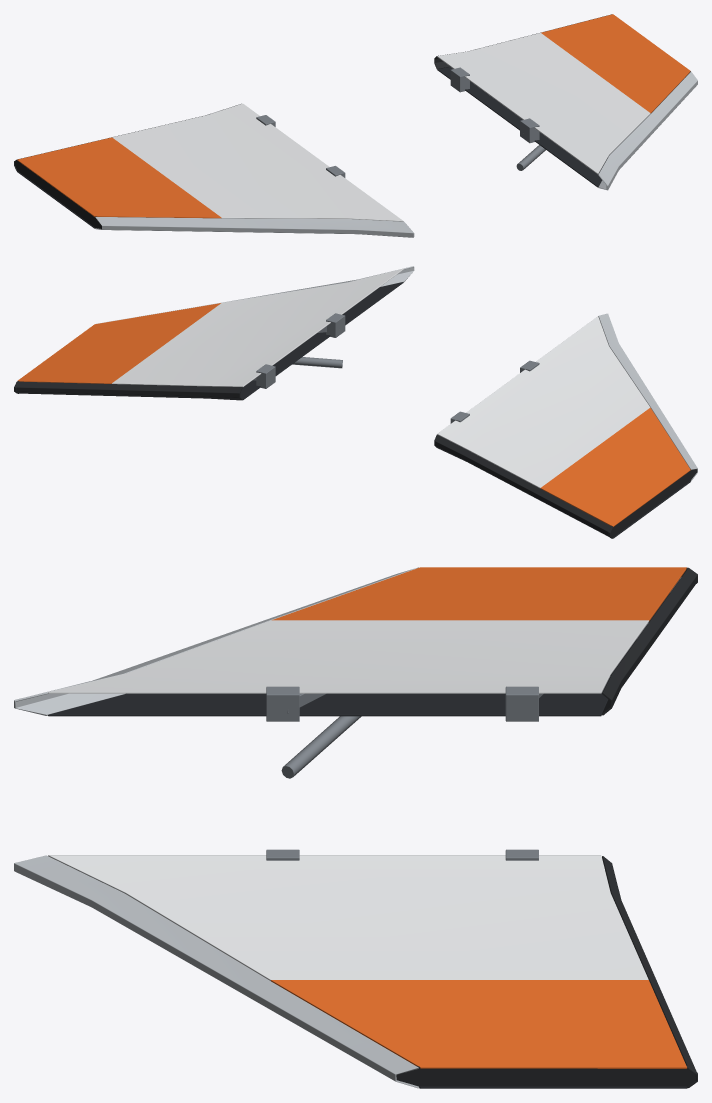
The model's file is nomad_wing_brace.fbx.
3 renders of one model, top to bottom at view 1: azimuth 30°, elevation 25°; view 2: azimuth 150°, elevation 25°; view 3: azimuth 270°, elevation 25°, orthographic. The views are drawn at different scales.
Visible parts, largest first — view 1: Wing_Top_L, Wing_Top_R, Wing_LE_L, Wing_LE_R, Wing_Bottom_R, Wing_Tip_L, Wing_Structure_R; view 2: Wing_Top_L, Wing_Top_R, Wing_TE_R, Wing_TE_L, Wing_LE_L, Wing_Bottom_R, Wing_Tip_L, Wing_Structure_R, Wing_LE_R; view 3: Wing_Top_R, Wing_Top_L, Wing_LE_R, Wing_Bottom_L, Wing_Tip_R, Wing_Structure_L, Wing_LE_L, Wing_TE_L, Wing_TE_R, Wing_Brace_Extra_L, Wing_Structure_R, Wing_Bottom_R.
Part boxes in pixels (x1=…): Wing_Top_L: x1=17, y1=103, x2=403, y2=221; Wing_Top_R: x1=437, y1=14, x2=690, y2=174; Wing_LE_L: x1=95, y1=217, x2=414, y2=237; Wing_LE_R: x1=598, y1=71, x2=697, y2=190; Wing_Bottom_R: x1=437, y1=67, x2=678, y2=187; Wing_Tip_L: x1=15, y1=159, x2=101, y2=228; Wing_Structure_R: x1=450, y1=67, x2=684, y2=162; Wing_Top_L: x1=437, y1=316, x2=690, y2=526; Wing_Top_R: x1=17, y1=268, x2=403, y2=386; Wing_TE_R: x1=14, y1=381, x2=242, y2=400; Wing_TE_L: x1=434, y1=434, x2=612, y2=538; Wing_LE_L: x1=598, y1=313, x2=697, y2=481; Wing_Bottom_R: x1=240, y1=282, x2=403, y2=399; Wing_Tip_L: x1=608, y1=469, x2=697, y2=538; Wing_Structure_R: x1=252, y1=313, x2=345, y2=388; Wing_LE_R: x1=96, y1=266, x2=414, y2=323; Wing_Top_R: x1=48, y1=855, x2=687, y2=1068; Wing_Top_L: x1=48, y1=567, x2=686, y2=693; Wing_LE_R: x1=14, y1=855, x2=419, y2=1088; Wing_Bottom_L: x1=48, y1=593, x2=669, y2=716; Wing_Tip_R: x1=396, y1=1065, x2=697, y2=1088; Wing_Structure_L: x1=266, y1=577, x2=681, y2=721; Wing_LE_L: x1=14, y1=567, x2=417, y2=715; Wing_TE_L: x1=602, y1=568, x2=697, y2=715; Wing_TE_R: x1=602, y1=856, x2=697, y2=1087; Wing_Brace_Extra_L: x1=281, y1=716, x2=361, y2=778; Wing_Structure_R: x1=266, y1=849, x2=538, y2=860; Wing_Bottom_R: x1=419, y1=1086, x2=687, y2=1088.
Size of the model in its own units: 356 by 26.85 by 206.
